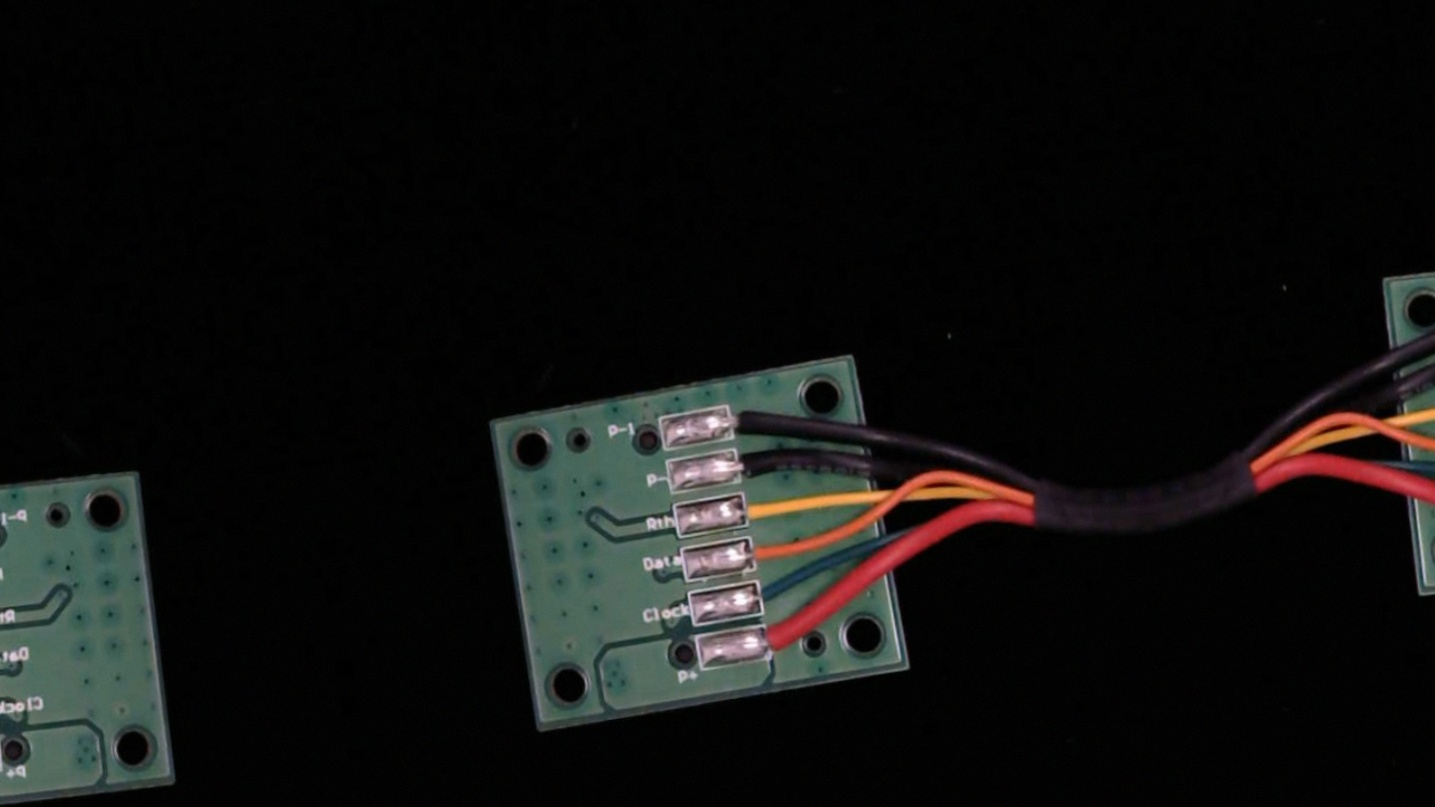Black: (719, 436, 807, 486)
Black1: (706, 391, 787, 439)
Green: (737, 568, 817, 619)
Orange: (733, 525, 820, 574)
Red: (747, 612, 831, 662)
Yellow: (722, 478, 811, 529)
